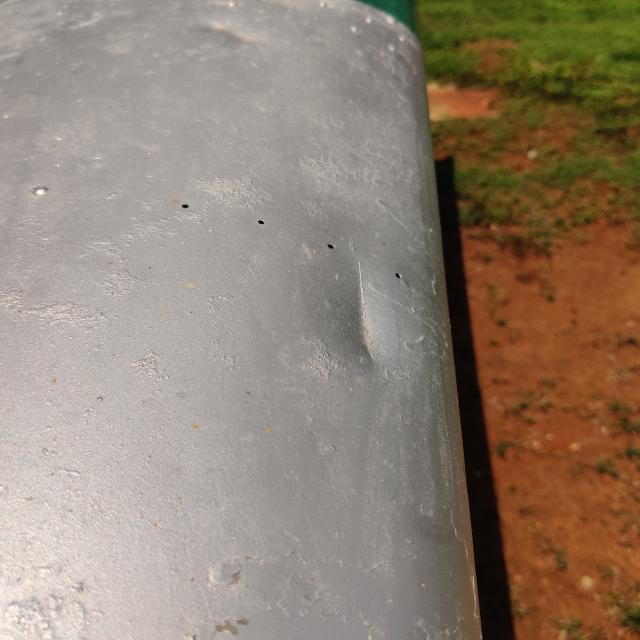dent: (303, 235, 427, 390), (172, 0, 282, 79)
